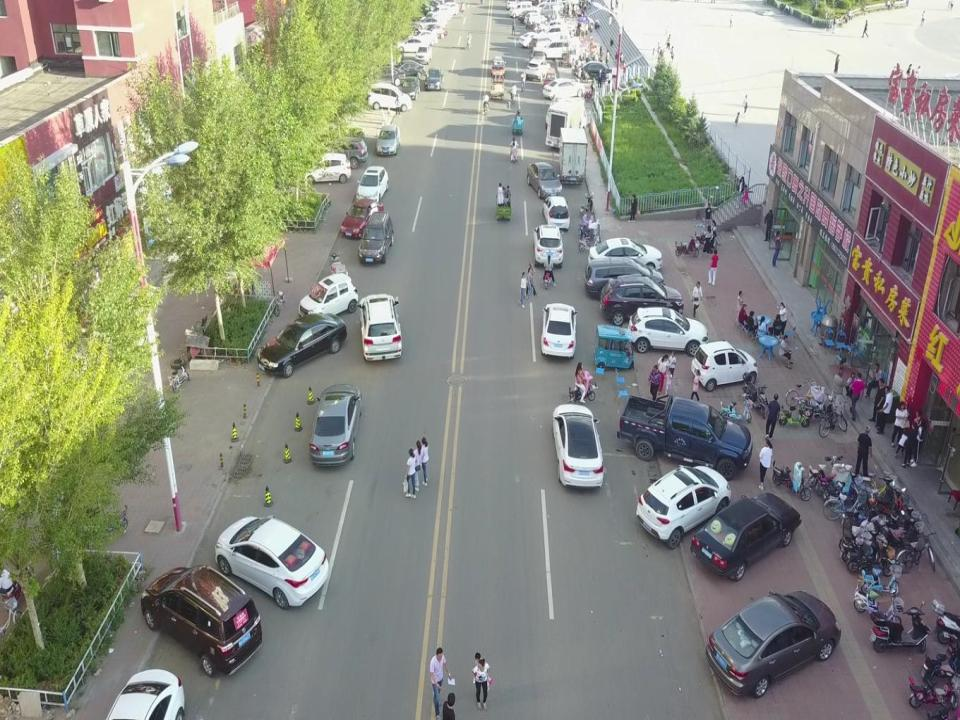car: (704, 589, 840, 698), (139, 562, 263, 678), (214, 515, 330, 610), (690, 490, 801, 581), (636, 465, 731, 550), (256, 312, 347, 378), (550, 403, 606, 489), (308, 382, 363, 469), (104, 666, 191, 716), (599, 275, 683, 324), (628, 306, 710, 356), (690, 339, 758, 391), (584, 255, 664, 298), (298, 273, 358, 327), (357, 294, 403, 360), (588, 236, 664, 270), (541, 301, 579, 359), (306, 136, 370, 168), (358, 211, 393, 264), (340, 198, 384, 238), (300, 152, 352, 184), (532, 223, 565, 269), (355, 166, 389, 206), (526, 162, 562, 199), (368, 83, 413, 112), (542, 195, 571, 231), (363, 65, 406, 86), (543, 78, 585, 99), (577, 62, 619, 82), (375, 125, 400, 157), (386, 59, 426, 79), (169, 354, 189, 392), (536, 40, 570, 60), (524, 58, 550, 83), (395, 36, 429, 54), (404, 29, 438, 46), (400, 76, 420, 101), (415, 24, 448, 38), (424, 68, 444, 91), (518, 31, 545, 47), (414, 17, 445, 30), (414, 43, 433, 64), (529, 36, 553, 52), (530, 47, 546, 65), (491, 56, 506, 74), (543, 70, 557, 86)
truck: (618, 393, 753, 480), (546, 99, 587, 150), (558, 127, 587, 185)
